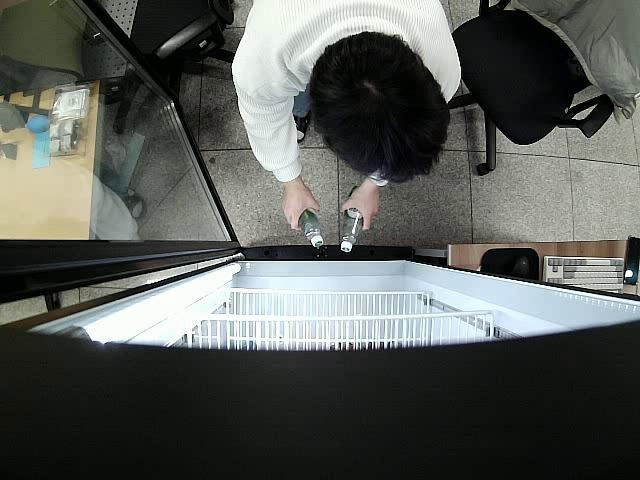18_trevi: (337, 185, 366, 252), (298, 208, 326, 248)
